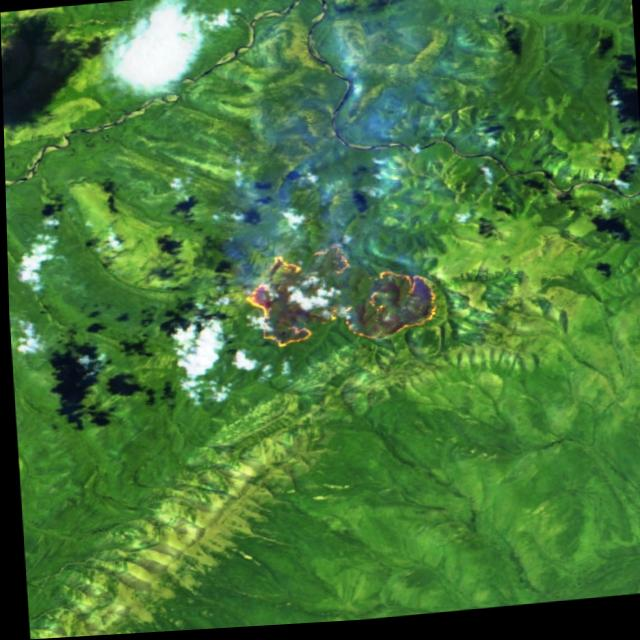fire: (230, 239, 445, 360)
